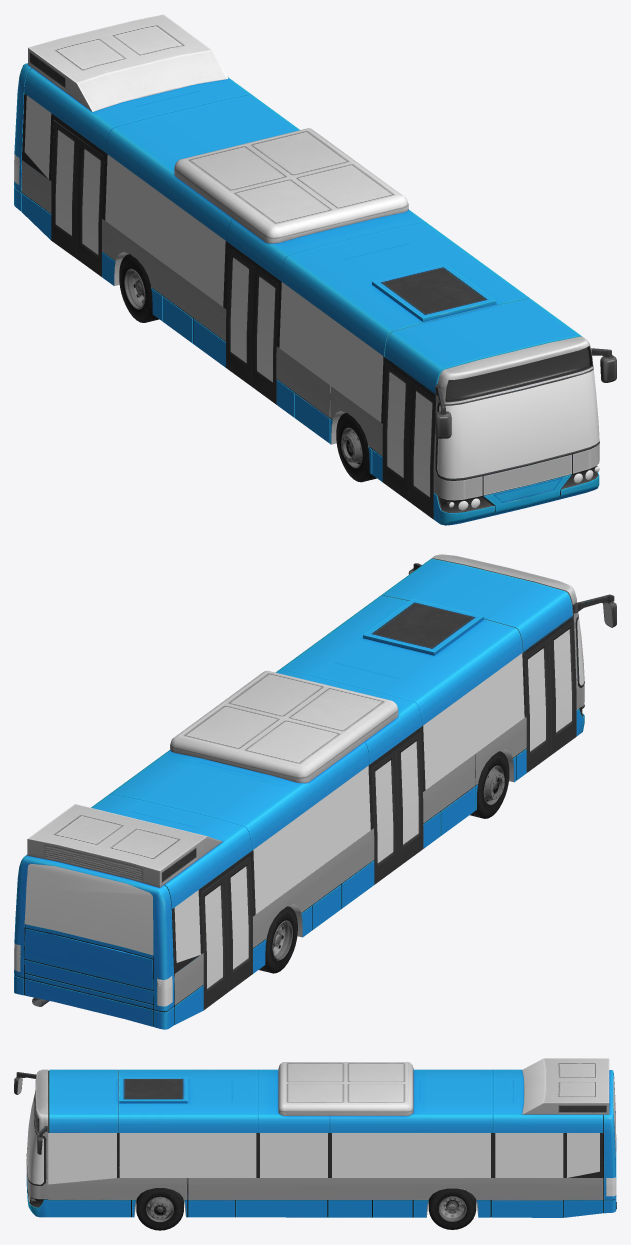
The model's file is bus.glb.
The picture shows the model from 3 angles, top to bottom: view 1: azimuth 30°, elevation 25°; view 2: azimuth 150°, elevation 25°; view 3: azimuth 270°, elevation 25°; orthographic projection. The views are drawn at different scales.
Visible parts, largest first — view 1: door1_exterior_Base_Color_0, door_gl1_glass_0, refect_wheel_0, reflect_wheel_0, interior_interior_Base_Color_0; view 2: door1_exterior_Base_Color_0, door_gl1_glass_0, refect_wheel_0, reflect_wheel_0; view 3: door1_exterior_Base_Color_0, door_gl1_glass_0, refect_wheel_0, reflect_wheel_0, interior_interior_Base_Color_0.
Part boxes in pixels (box(x1,y1,x2,y2)): door1_exterior_Base_Color_0: box(14, 14, 616, 525); door_gl1_glass_0: box(14, 95, 599, 510); refect_wheel_0: box(336, 412, 376, 482); reflect_wheel_0: box(119, 254, 159, 322); interior_interior_Base_Color_0: box(51, 126, 599, 480); door1_exterior_Base_Color_0: box(14, 554, 616, 1029); door_gl1_glass_0: box(14, 618, 584, 1006); refect_wheel_0: box(470, 751, 509, 818); reflect_wheel_0: box(259, 906, 297, 973); door1_exterior_Base_Color_0: box(14, 1058, 616, 1217); door_gl1_glass_0: box(26, 1076, 616, 1201); refect_wheel_0: box(136, 1188, 183, 1230); reflect_wheel_0: box(428, 1188, 476, 1229); interior_interior_Base_Color_0: box(26, 1091, 119, 1185).
Bounding box in the file's own units: 3.04 × 2.78 × 12.02.
8 materials, 6 textured.
